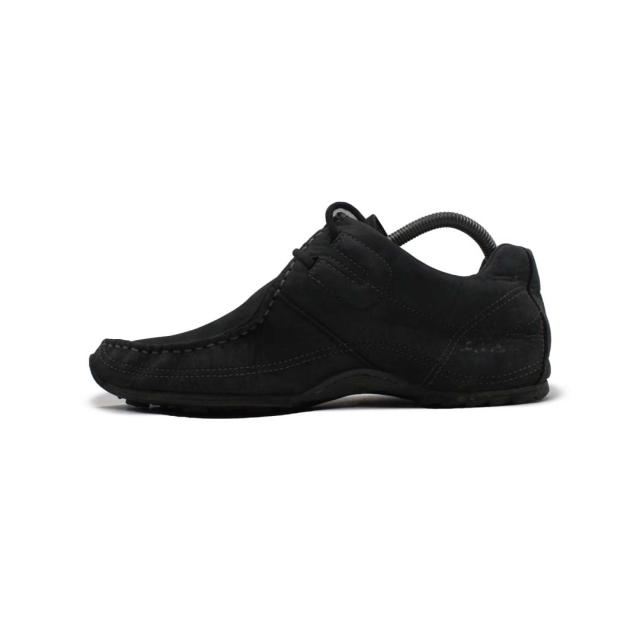heel: (512, 219, 555, 368)
midsole: (86, 360, 558, 414)
uppersole: (66, 181, 508, 372)
